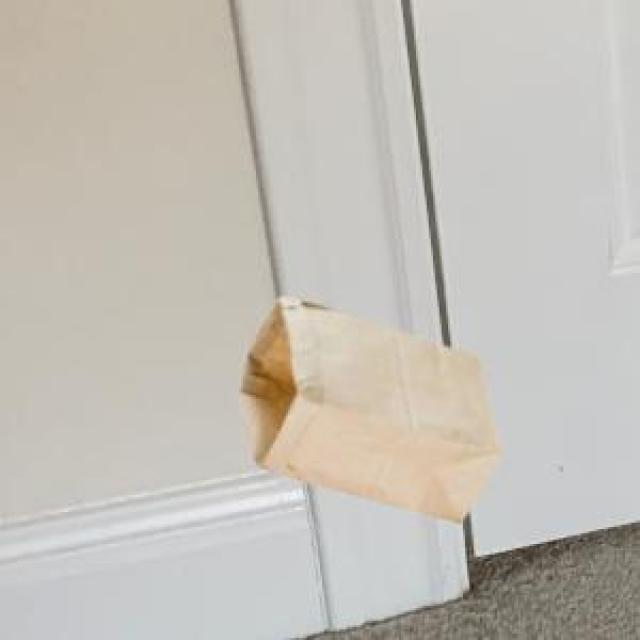paper: (237, 294, 497, 518)
